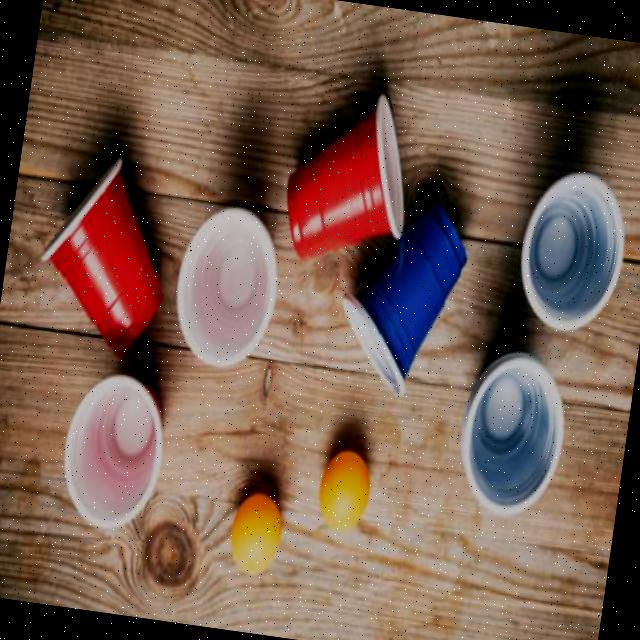ping-pong-ball: (226, 492, 284, 578), (315, 449, 371, 531)
